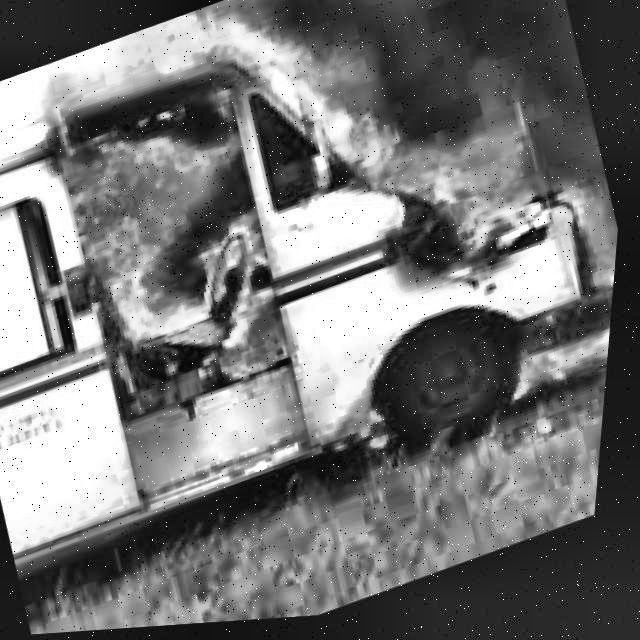Fire: (7, 0, 640, 548)
Smoke: (201, 0, 631, 326)
